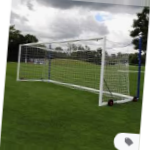goals: (16, 33, 137, 108)
